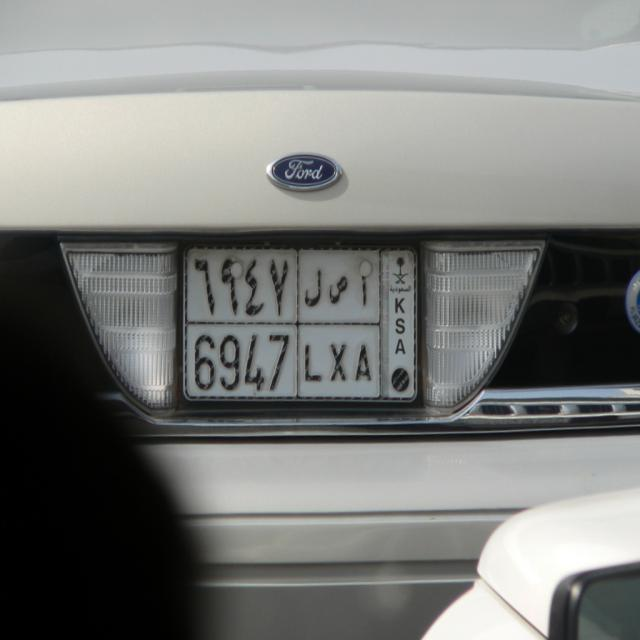license_plate: (175, 239, 423, 409)
